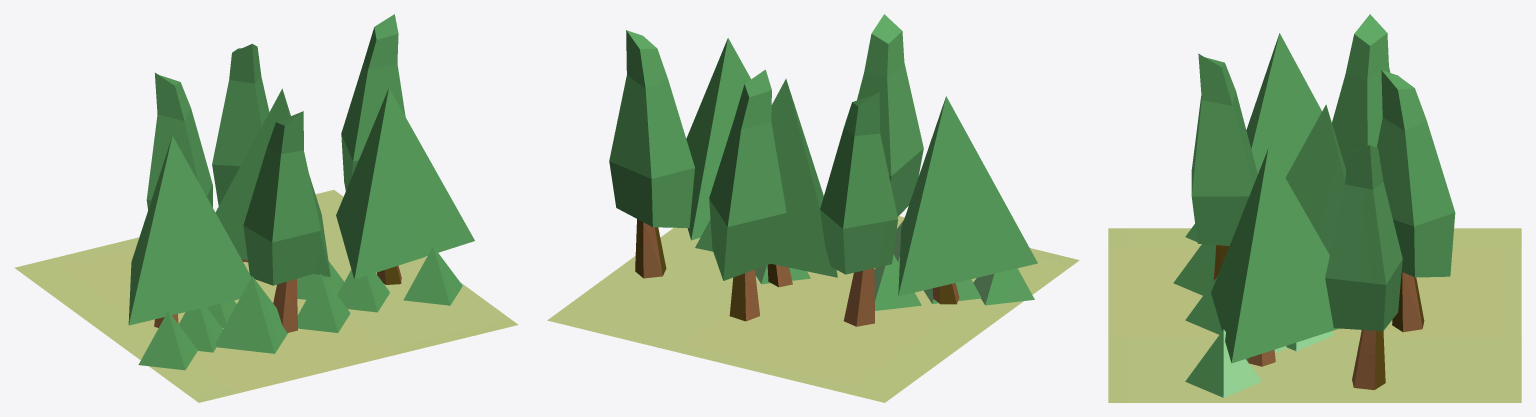
File: trees_0.glb
3 renders of one model, left to right at view 1: azimuth 30°, elevation 25°; view 2: azimuth 150°, elevation 25°; view 3: azimuth 270°, elevation 25°, orthographic. The views are drawn at different scales.
Parts seen in each view (by area): view 1: Cube.003; view 2: Cube.003; view 3: Cube.003.
Boxes of the visible parts, x1,y1,x2,y2 form: Cube.003: (14,14,518,402); Cube.003: (547,14,1079,402); Cube.003: (1108,14,1521,402).
Bounding box in the file's own units: 8.87 × 5.55 × 8.19.
Materials: 3 (3 with a texture image).
